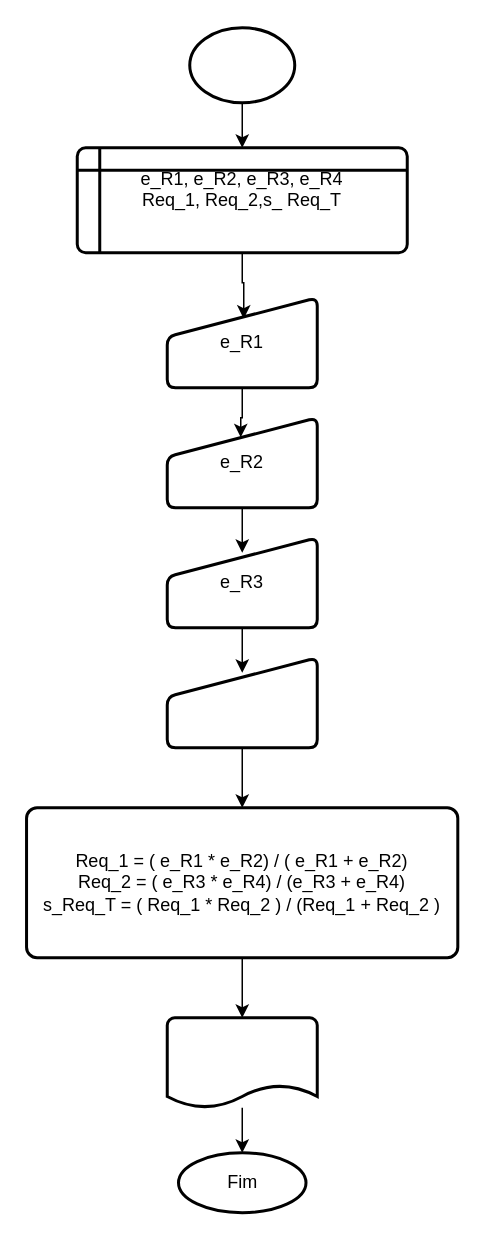
The diagram is 486 pixels wide and 1239 high, and some of its shapes have lost their labels. Each missing label, with the centre of its shape:
e_R4: [241,702]
Inicio: [242,65]
s_Req_T: [241,1062]
